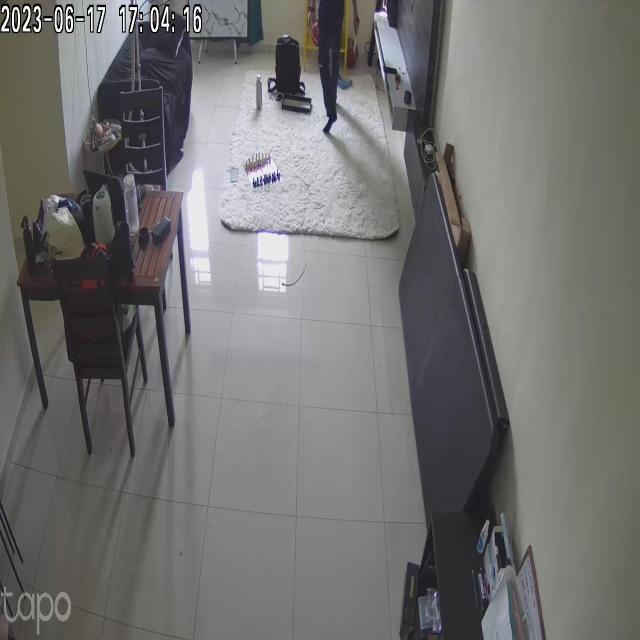Knife: (349, 18, 366, 58)
